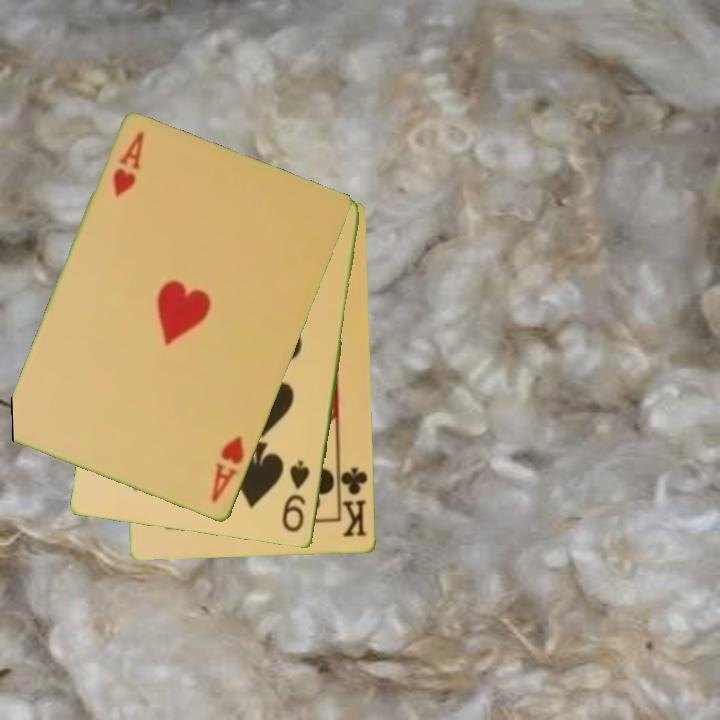9s: (279, 457, 313, 536)
Ah: (208, 433, 248, 506), (109, 128, 148, 202)
Kc: (336, 460, 371, 540)
